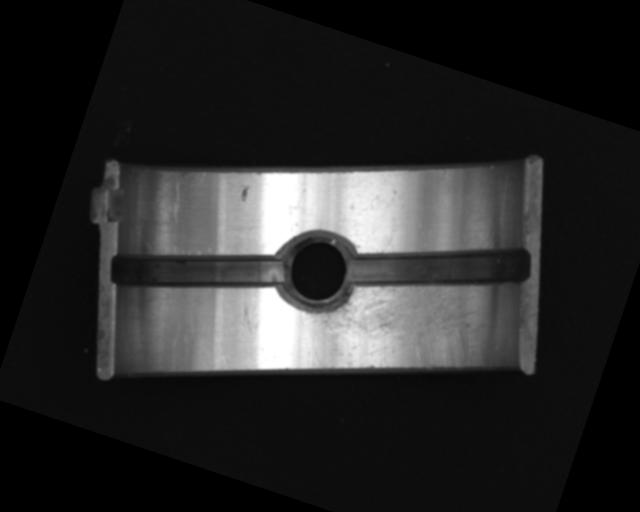bruise: (236, 184, 251, 204)
gap: (347, 198, 534, 333), (105, 210, 288, 335)
hole: (264, 217, 368, 323)
nick: (161, 174, 193, 225), (230, 288, 265, 334)
scratch: (286, 238, 499, 423)
